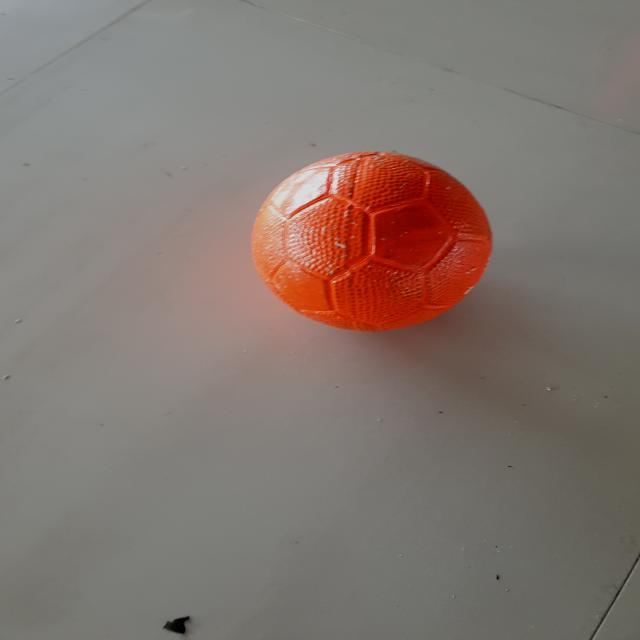bola: (250, 147, 501, 340)
